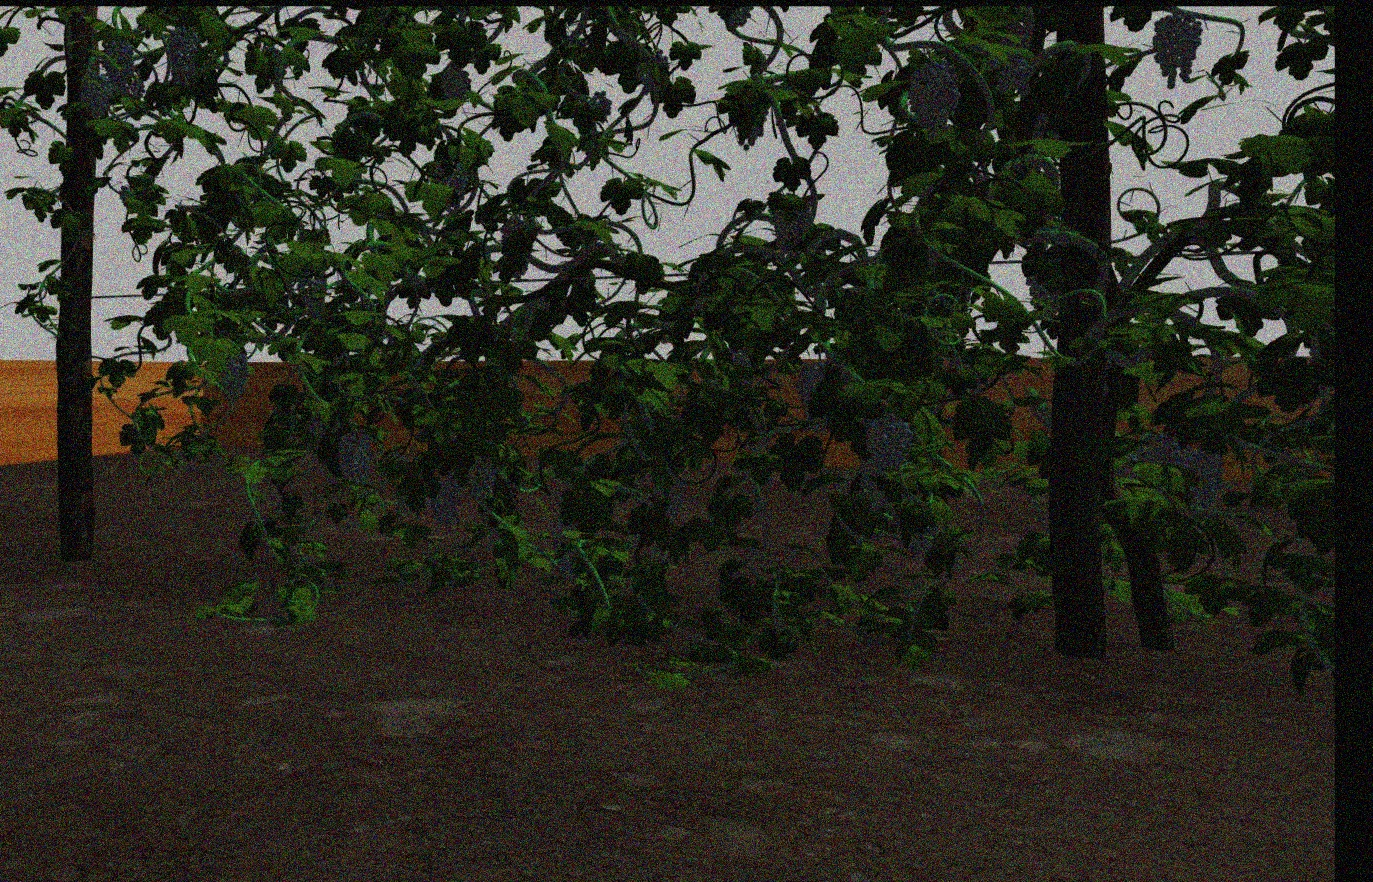grape: (906, 56, 962, 145), (1150, 15, 1202, 84), (864, 415, 915, 477), (1181, 451, 1225, 510), (165, 22, 199, 86), (336, 428, 374, 484), (100, 36, 134, 90), (427, 474, 459, 527), (216, 352, 248, 401), (79, 72, 111, 117), (439, 65, 470, 101), (467, 463, 496, 501)
